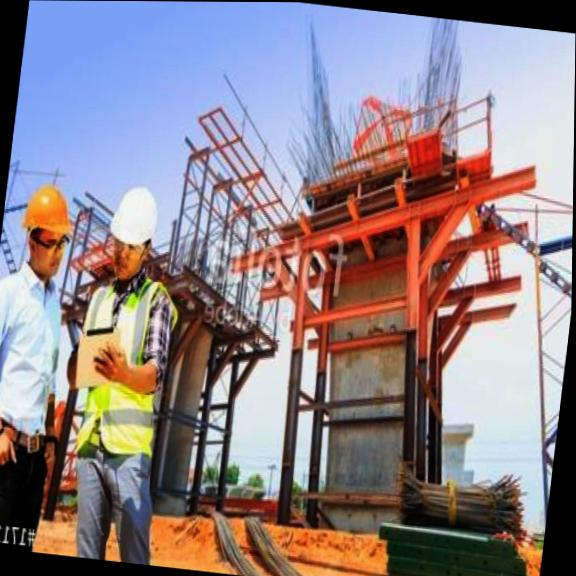no_safety_vest: (0, 277, 65, 455)
safety_vest: (71, 280, 167, 470)
